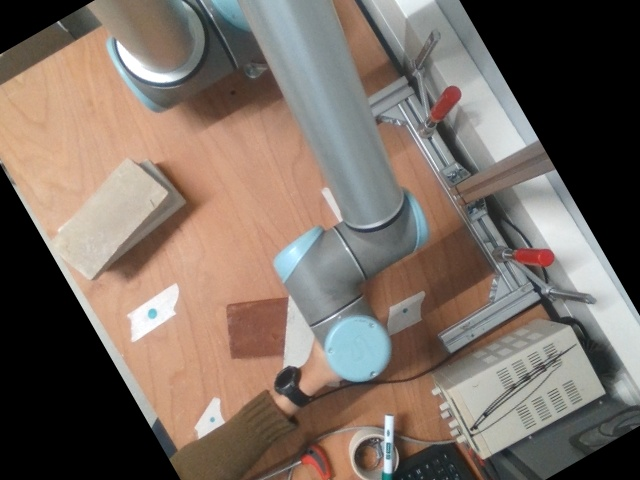brick: (51, 160, 163, 277)
